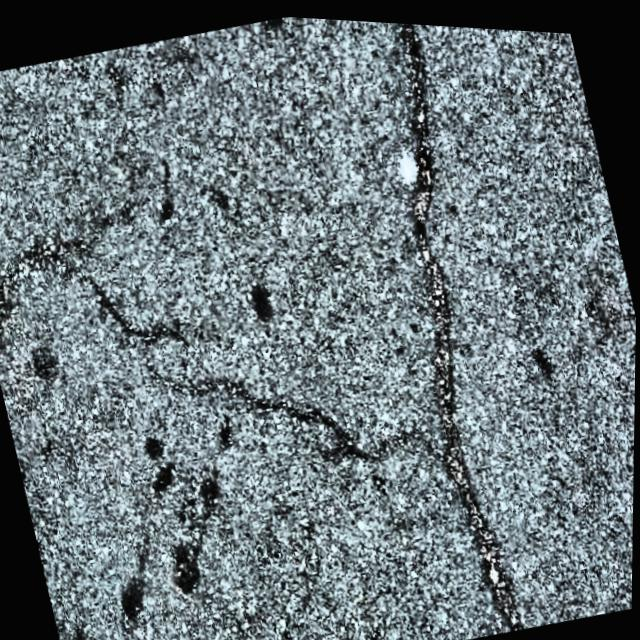cracks: (398, 24, 529, 631)
